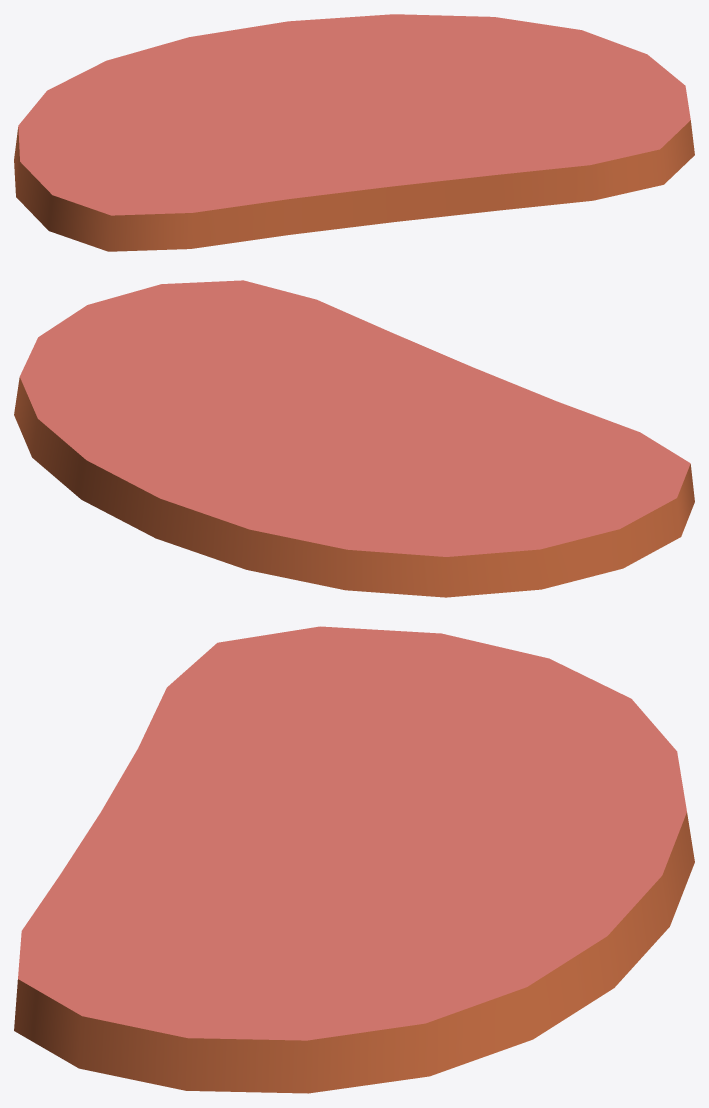
Rendered from bread.fbx.
3 views of the same model, one above another, from view 1: azimuth 30°, elevation 25°; view 2: azimuth 150°, elevation 25°; view 3: azimuth 270°, elevation 25° (orthographic). The views are drawn at different scales.
Visible parts, largest first — view 1: uploads_files_261281_bread; view 2: uploads_files_261281_bread; view 3: uploads_files_261281_bread.
Part boxes in pixels (x1,y1,x2,y2): uploads_files_261281_bread: (14,14,694,251); uploads_files_261281_bread: (14,280,694,597); uploads_files_261281_bread: (14,626,694,1093).
Bounding box in the file's own units: 777 × 43.38 × 533.
